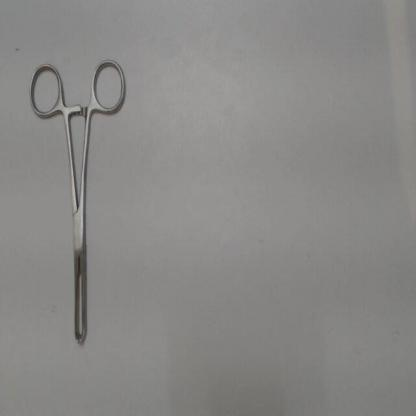Allis Tissue Forceps: (21, 56, 136, 365)
